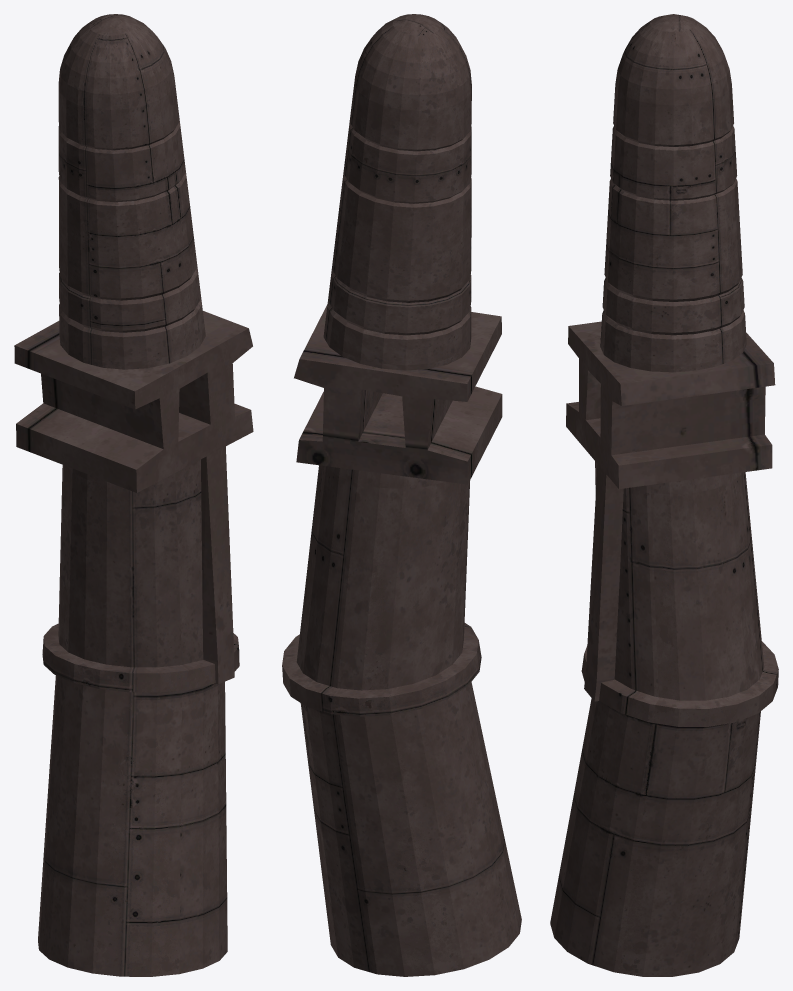
File: Finger01A.fbx
3 renders of one model, left to right at view 1: azimuth 30°, elevation 25°; view 2: azimuth 150°, elevation 25°; view 3: azimuth 270°, elevation 25°, orthographic.
Parts seen in each view (by area): view 1: SM_ENV_STRUCT_ScrapYard_Finger_01_A.mo; view 2: SM_ENV_STRUCT_ScrapYard_Finger_01_A.mo; view 3: SM_ENV_STRUCT_ScrapYard_Finger_01_A.mo.
Part boxes in pixels (<box>): SM_ENV_STRUCT_ScrapYard_Finger_01_A.mo: <box>14,14,253,976</box>; SM_ENV_STRUCT_ScrapYard_Finger_01_A.mo: <box>282,14,521,976</box>; SM_ENV_STRUCT_ScrapYard_Finger_01_A.mo: <box>550,14,778,976</box>.
Size of the model in its own units: 160 by 729 by 164.
2 materials, 2 textured.
